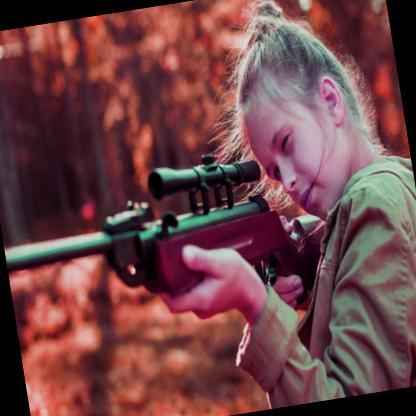rifle: (0, 146, 322, 342)
